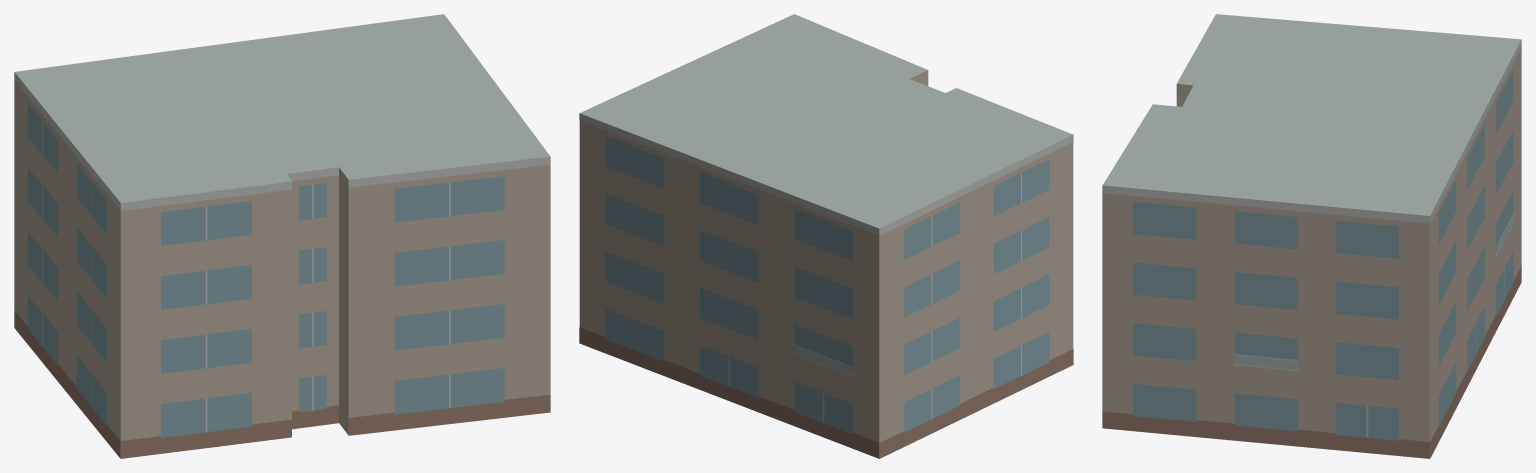
File: survey-upis-33015006.glb
3 views of the same model, side by side, from view 1: azimuth 30°, elevation 25°; view 2: azimuth 150°, elevation 25°; view 3: azimuth 270°, elevation 25° (orthographic). The views are drawn at different scales.
Parts seen in each view (by area): view 1: survey-upis-33015006.tmp; view 2: survey-upis-33015006.tmp; view 3: survey-upis-33015006.tmp.
Boxes of the visible parts, x1,y1,x2,y2 form: survey-upis-33015006.tmp: [14, 14, 550, 458]; survey-upis-33015006.tmp: [579, 14, 1073, 458]; survey-upis-33015006.tmp: [1102, 14, 1521, 458].
Size of the model in its own units: 13.93 by 7.8 by 12.21.
